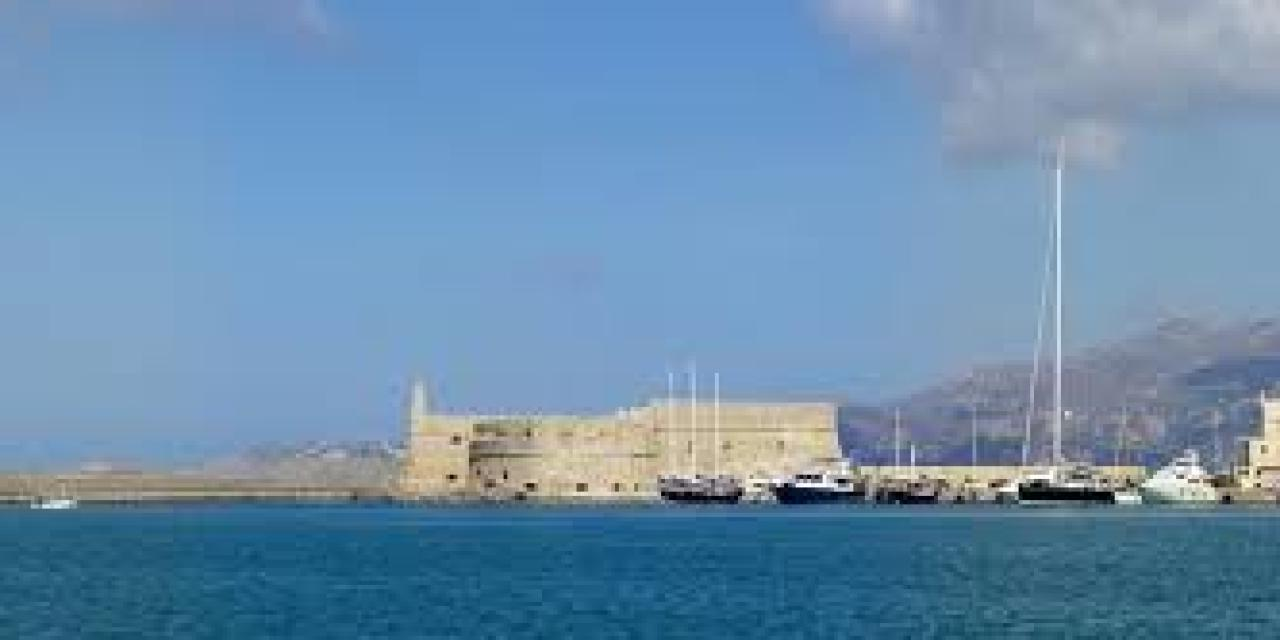Kules: (399, 374, 845, 496)
